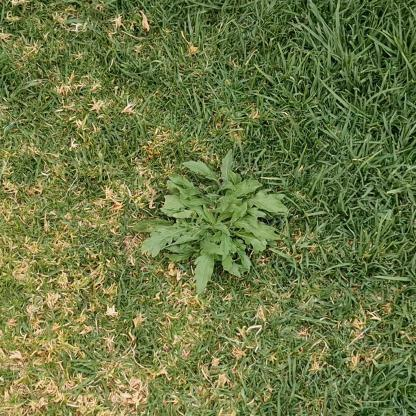Weeds: (133, 148, 288, 293)
